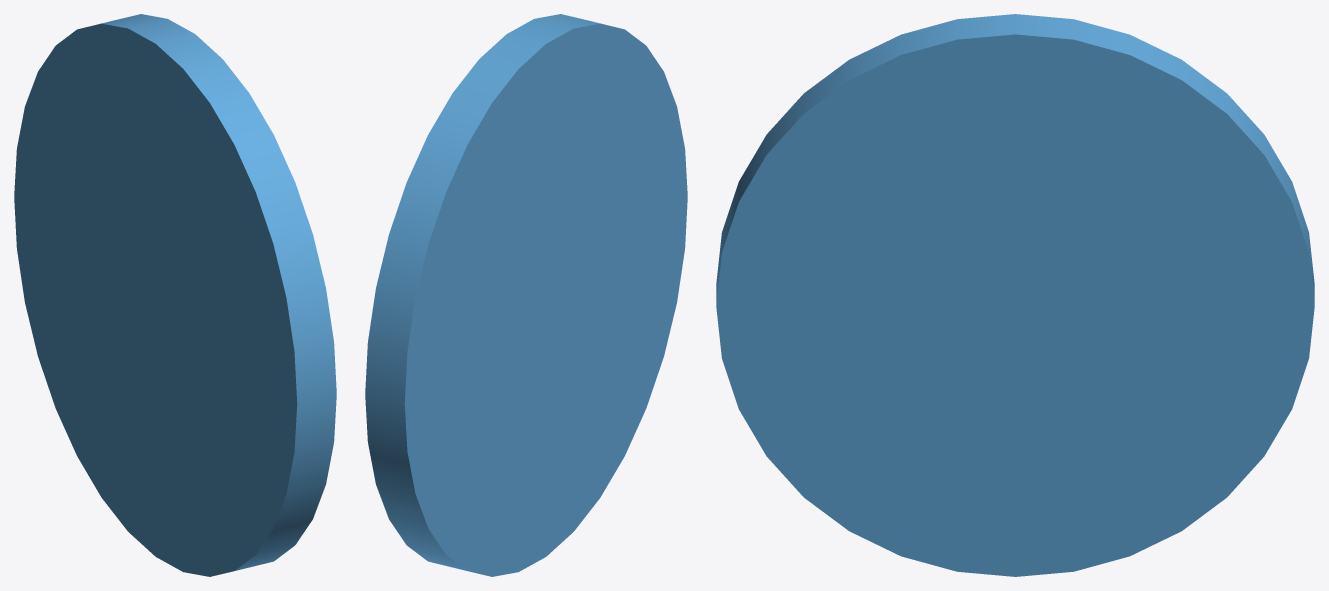
Rendered from HealthRegeneration.fbx.
3 renders of one model, left to right at view 1: azimuth 30°, elevation 25°; view 2: azimuth 150°, elevation 25°; view 3: azimuth 270°, elevation 25°, orthographic. The views are drawn at different scales.
Parts seen in each view (by area): view 1: regeneration; view 2: regeneration; view 3: regeneration.
Part boxes in pixels (box(x1,y1,x2,y2)): regeneration: box(14, 14, 336, 576); regeneration: box(365, 14, 687, 576); regeneration: box(716, 14, 1314, 576).
Size of the model in its own units: 4.48 by 55.44 by 55.44.
